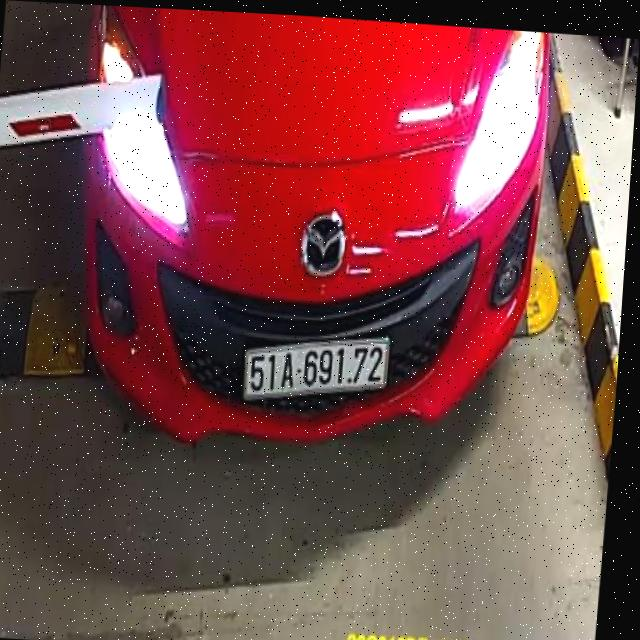car: (39, 4, 573, 466)
plate: (239, 331, 393, 405)
